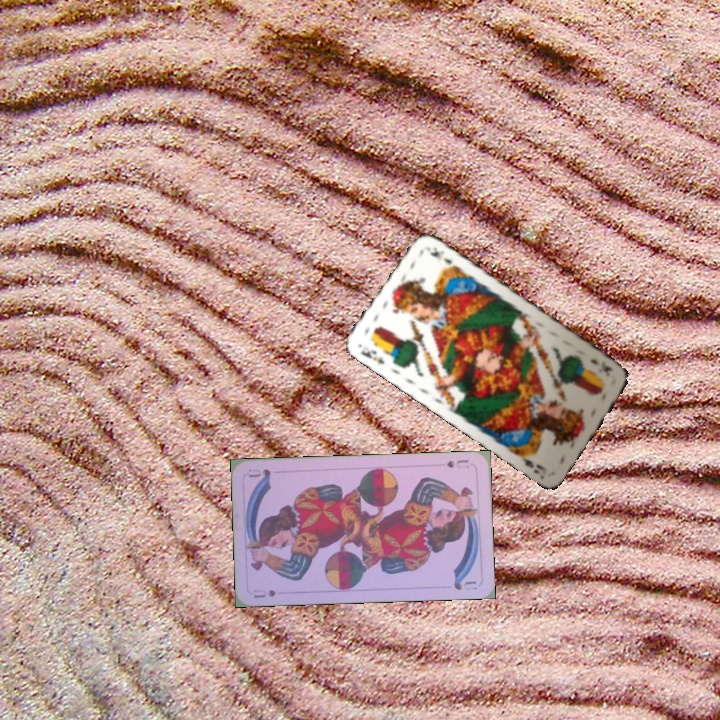EK: (586, 355, 615, 379), (356, 346, 388, 367)
SU: (250, 585, 278, 601), (443, 455, 471, 471)
